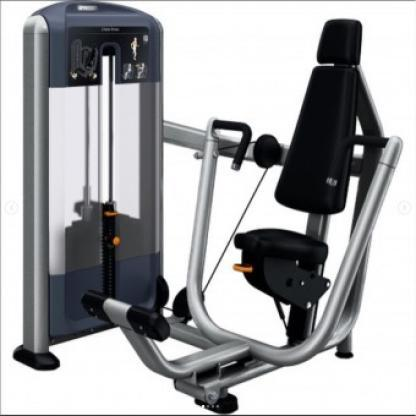Chest Press machine: (10, 1, 409, 416)
